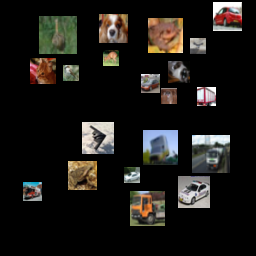airplane: (82, 122, 114, 154)
automobile: (178, 176, 210, 208), (213, 2, 242, 31), (141, 74, 160, 93), (124, 167, 140, 183)
bird: (39, 16, 77, 54), (63, 65, 79, 81)
cat: (30, 58, 56, 84), (168, 61, 190, 83)
deer: (103, 50, 119, 66), (190, 38, 206, 54)
dog: (99, 14, 128, 43), (161, 88, 177, 104)
frog: (148, 18, 183, 53), (68, 161, 97, 190)
